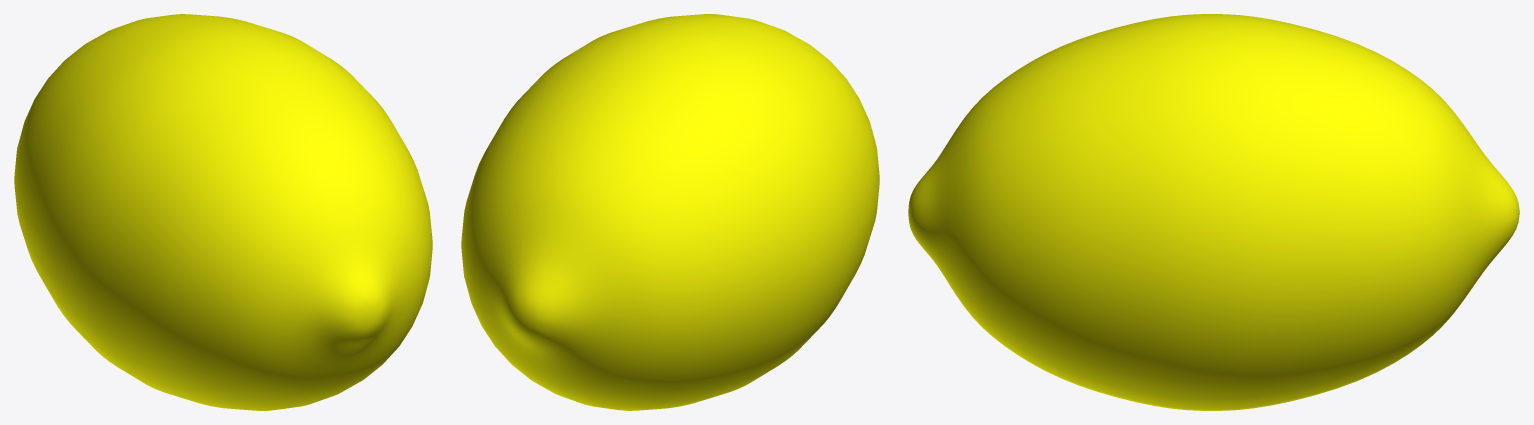
The model's file is Lemon.fbx.
The picture shows the model from 3 angles, left to right: view 1: azimuth 30°, elevation 25°; view 2: azimuth 150°, elevation 25°; view 3: azimuth 270°, elevation 25°; orthographic projection. The views are drawn at different scales.
Visible parts, largest first — view 1: Lemon; view 2: Lemon; view 3: Lemon.
Part boxes in pixels (left/top/right/bottom): Lemon: left=14, top=14, right=432, bottom=410; Lemon: left=461, top=14, right=879, bottom=410; Lemon: left=908, top=14, right=1519, bottom=410.
Size of the model in its own units: 83.54 by 83.54 by 128.
